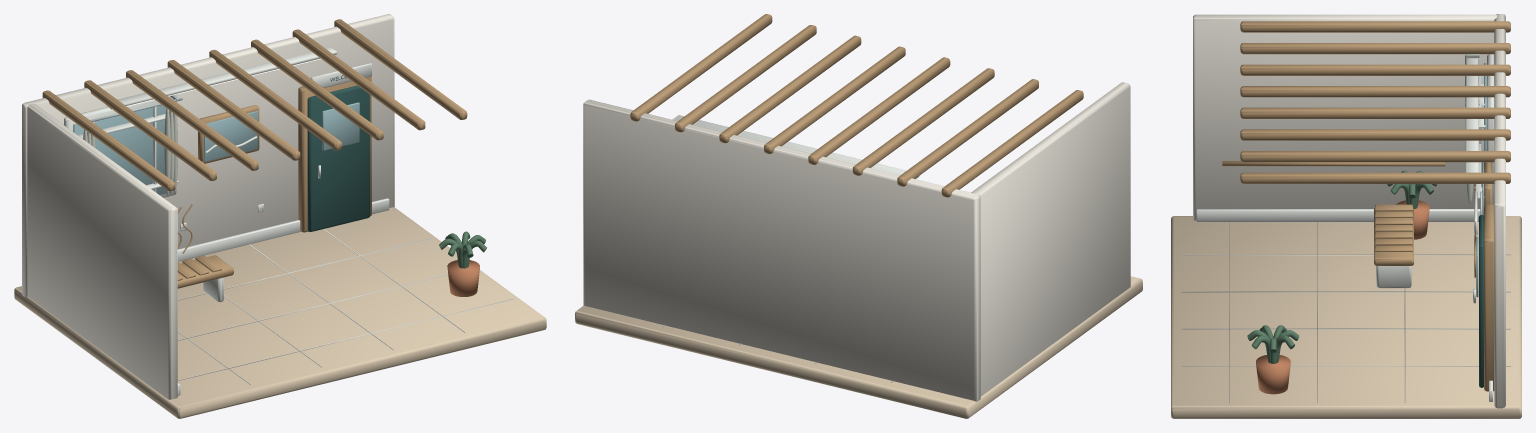
Rendered from entrance.glb.
3 views of the same model, side by side, from view 1: azimuth 30°, elevation 25°; view 2: azimuth 150°, elevation 25°; view 3: azimuth 270°, elevation 25° (orthographic). The views are drawn at different scales.
Parts seen in each view (by area): view 1: Floor, SideWall, RearWall, Door, Window, RearSkirting, ShadeSlat.003, ShadeSlat, ShadeSlat.006, ShadeSlat.007, ShadeSlat.005, ShadeSlat.002 (+12 smaller); view 2: RearWall, SideWall, Floor, ShadeSlat.005, ShadeSlat, ShadeSlat.002, ShadeSlat.003, ShadeSlat.007, ShadeSlat.001, ShadeSlat.004, ShadeSlat.006, LightHousing; view 3: Floor, SideWall, RearWall, ShadeSlat.002, ShadeSlat.007, ShadeSlat.004, ShadeSlat.005, ShadeSlat, ShadeSlat.003, ShadeSlat.006, ShadeSlat.001, SideSkirting (+12 smaller).
Boxes of the visible parts, x1,y1,x2,y2 form: Floor: [14, 207, 546, 418]; SideWall: [27, 103, 177, 399]; RearWall: [22, 14, 394, 296]; Door: [307, 85, 370, 231]; Window: [73, 105, 169, 194]; RearSkirting: [177, 198, 389, 261]; ShadeSlat.003: [167, 60, 300, 160]; ShadeSlat: [42, 90, 175, 191]; ShadeSlat.006: [292, 29, 425, 130]; ShadeSlat.007: [334, 19, 467, 119]; ShadeSlat.005: [251, 39, 383, 140]; ShadeSlat.002: [126, 70, 258, 170]; RearWall: [583, 99, 980, 401]; SideWall: [971, 82, 1130, 396]; Floor: [575, 276, 1142, 418]; ShadeSlat.005: [719, 35, 861, 143]; ShadeSlat: [941, 90, 1083, 197]; ShadeSlat.002: [852, 68, 994, 175]; ShadeSlat.003: [808, 57, 950, 164]; ShadeSlat.007: [630, 14, 772, 121]; ShadeSlat.001: [897, 79, 1038, 186]; ShadeSlat.004: [764, 46, 905, 153]; ShadeSlat.006: [675, 25, 816, 132]; LightHousing: [672, 115, 919, 178]; Floor: [1171, 216, 1521, 418]; SideWall: [1193, 14, 1496, 220]; RearWall: [1494, 14, 1505, 408]; ShadeSlat.002: [1240, 64, 1510, 75]; ShadeSlat.007: [1240, 172, 1510, 183]; ShadeSlat.004: [1240, 107, 1510, 118]; ShadeSlat.005: [1240, 129, 1510, 140]; ShadeSlat: [1240, 21, 1510, 32]; ShadeSlat.003: [1240, 86, 1510, 97]; ShadeSlat.006: [1240, 151, 1510, 162]; ShadeSlat.001: [1240, 43, 1510, 54]; SideSkirting: [1196, 209, 1480, 222].
Size of the model in its own units: 6.2 by 3.32 by 4.8.
